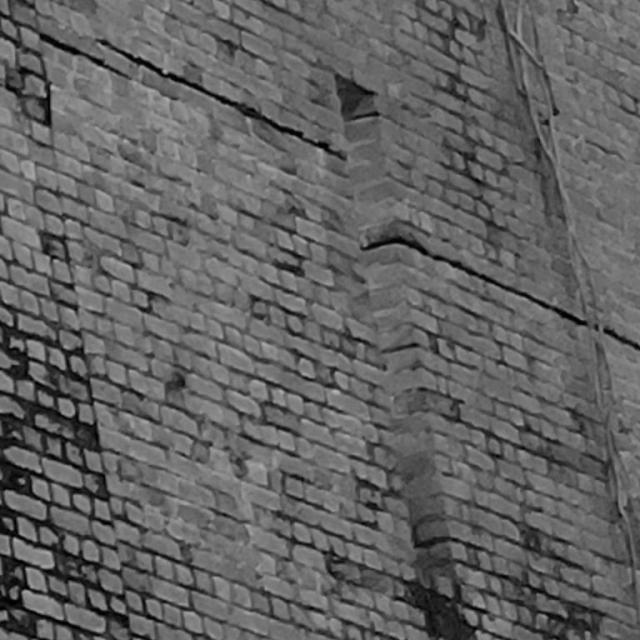crack: (361, 235, 640, 348), (94, 38, 345, 158), (38, 30, 130, 79)
